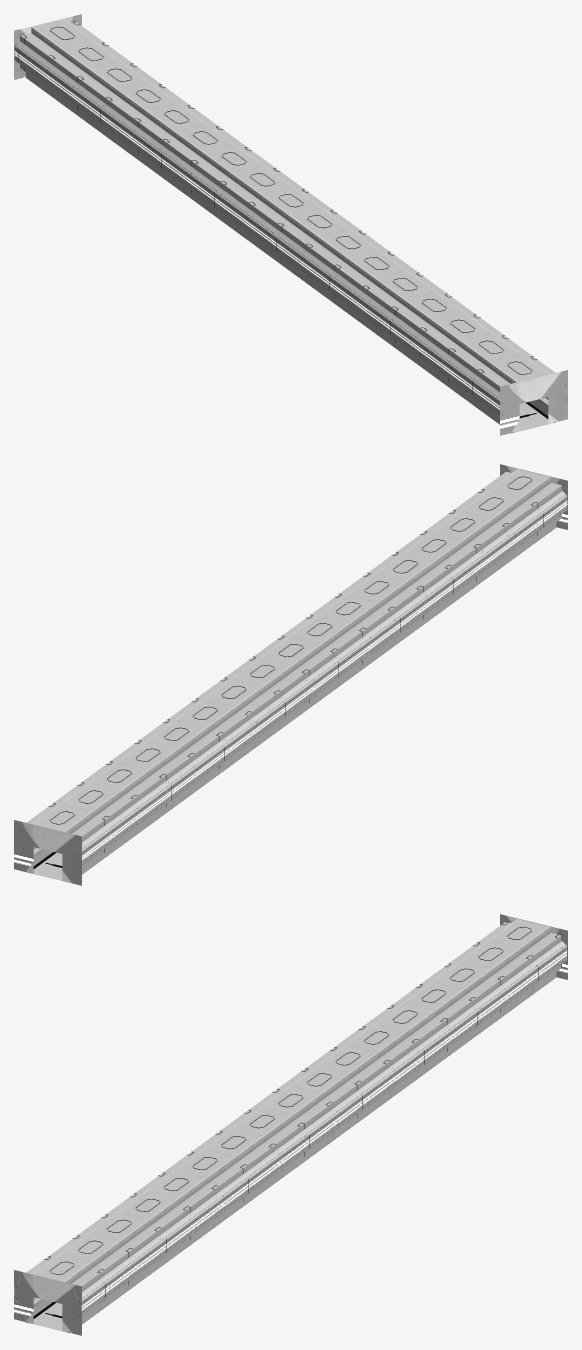
Rendered from Conexiones05.fbx.
The picture shows the model from 3 angles, top to bottom: view 1: azimuth 30°, elevation 25°; view 2: azimuth 150°, elevation 25°; view 3: azimuth 330°, elevation 25°; orthographic projection.
Visible parts, largest first — view 1: Conexiones05; view 2: Conexiones05; view 3: Conexiones05.
Boxes of the visible parts, bbox=[...] form: Conexiones05: bbox=[14, 14, 567, 435]; Conexiones05: bbox=[14, 464, 567, 885]; Conexiones05: bbox=[14, 914, 567, 1335].
Size of the model in its own units: 604 by 422 by 7482.
